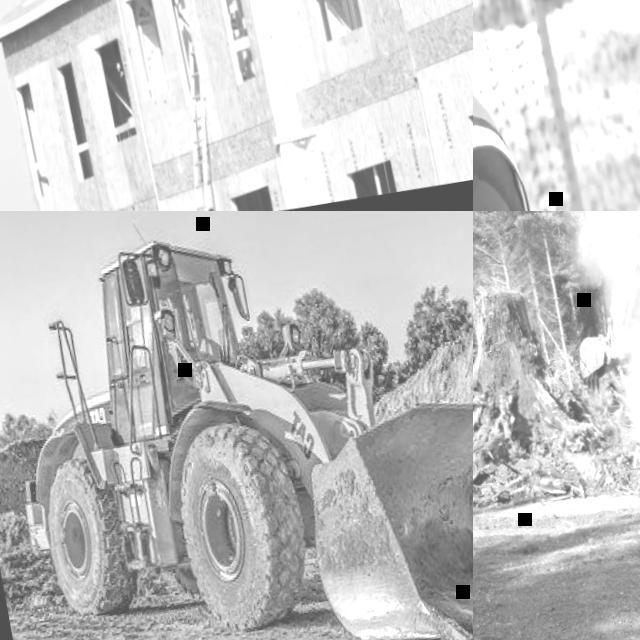vest: (473, 2, 552, 211)
